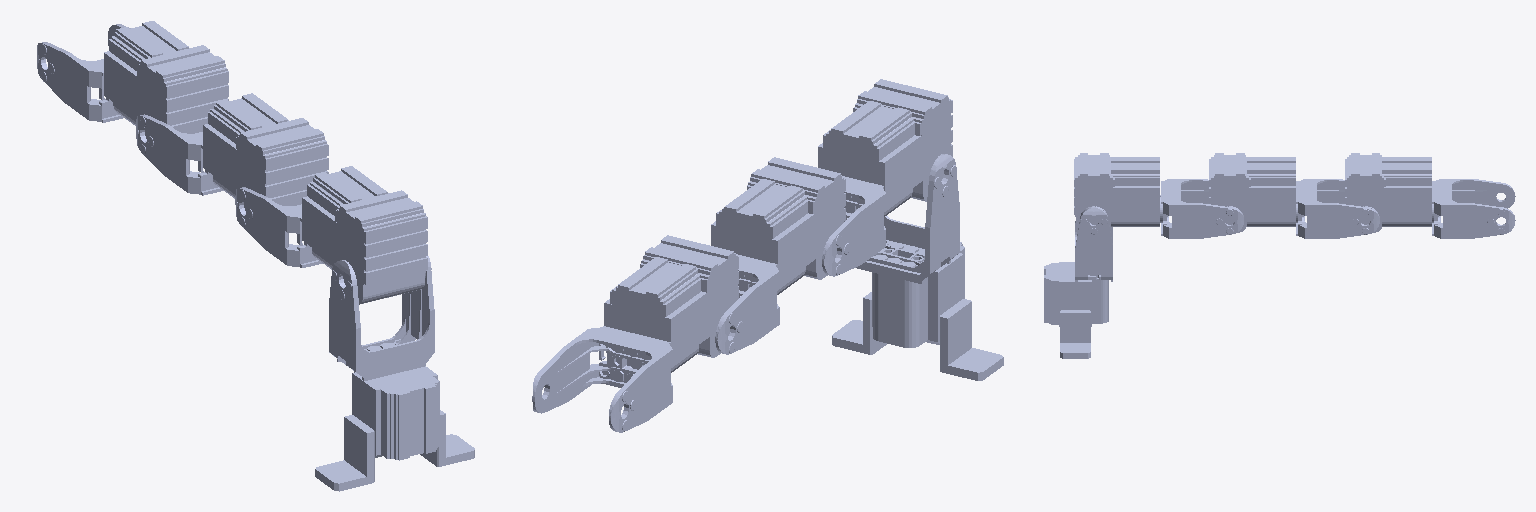
robot.urdf — dyxel_arm_description:
<?xml version="1.0" encoding="utf-8"?>
<!-- This URDF was automatically created by SolidWorks to URDF Exporter! Originally created by [author] ([email redacted]) 
     Commit Version: 1.6.0-4-g7f85cfe  Build Version: 1.6.7995.38578
     For more information, please see http://wiki.ros.org/sw_urdf_exporter -->
<robot
  name="dyxel_arm_description">
  <link
    name="base_link">
    <inertial>
      <origin
        xyz="-0.0266190280842503 0.00413459015203709 0.0862442348129528"
        rpy="0 0 0" />
      <mass
        value="0.0873487052171479" />
      <inertia
        ixx="2.19215296408733E-05"
        ixy="-1.74435847575182E-20"
        ixz="5.40673187513534E-23"
        iyy="1.65873170923579E-05"
        iyz="-6.95944016564115E-10"
        izz="1.48982425180829E-05" />
    </inertial>
    <visual>
      <origin
        xyz="0 0 0"
        rpy="0 0 0" />
      <geometry>
        <mesh
          filename="package://test_jsy/meshes/base_link.STL" />
      </geometry>
      <material
        name="">
        <color
          rgba="0.792156862745098 0.819607843137255 0.933333333333333 1" />
      </material>
    </visual>
    <collision>
      <origin
        xyz="0 0 0"
        rpy="0 0 0" />
      <geometry>
        <mesh
          filename="package://test_jsy/meshes/base_link.STL" />
      </geometry>
    </collision>
  </link>
  <link
    name="link_1">
    <inertial>
      <origin
        xyz="6.1153E-08 0.00056972 -0.022064"
        rpy="0 0 0" />
      <mass
        value="0.01362" />
      <inertia
        ixx="5.5011E-06"
        ixy="-2.5761E-12"
        ixz="2.8369E-11"
        iyy="9.5948E-06"
        iyz="-8.0254E-08"
        izz="6.1633E-06" />
    </inertial>
    <visual>
      <origin
        xyz="0 0 0"
        rpy="0 0 0" />
      <geometry>
        <mesh
          filename="package://test_jsy/meshes/link_1.STL" />
      </geometry>
      <material
        name="">
        <color
          rgba="0.79216 0.81961 0.93333 1" />
      </material>
    </visual>
    <collision>
      <origin
        xyz="0 0 0"
        rpy="0 0 0" />
      <geometry>
        <mesh
          filename="package://test_jsy/meshes/link_1.STL" />
      </geometry>
    </collision>
  </link>
  <joint
    name="joint_1"
    type="revolute">
    <origin
      xyz="-0.026618 -0.0725 0.026408"
      rpy="-3.1416 0 0" />
    <parent
      link="base_link" />
    <child
      link="link_1" />
    <axis
      xyz="0 0 1" />
    <limit 
      effort="100" 
      lower="-3.14" 
      upper="3.14" 
      velocity="0.5"/>
  </joint>
  <link
    name="link_2">
    <inertial>
      <origin
        xyz="0.0003596 -0.013511 0.018372"
        rpy="0 0 0" />
      <mass
        value="0.1333" />
      <inertia
        ixx="3.4849E-05"
        ixy="-6.0282E-23"
        ixz="-4.6427E-20"
        iyy="2.4143E-05"
        iyz="-6.9594E-10"
        izz="3.2451E-05" />
    </inertial>
    <visual>
      <origin
        xyz="0 0 0"
        rpy="0 0 0" />
      <geometry>
        <mesh
          filename="package://test_jsy/meshes/link_2.STL" />
      </geometry>
      <material
        name="">
        <color
          rgba="0.79216 0.81961 0.93333 1" />
      </material>
    </visual>
    <collision>
      <origin
        xyz="0 0 0"
        rpy="0 0 0" />
      <geometry>
        <mesh
          filename="package://test_jsy/meshes/link_2.STL" />
      </geometry>
    </collision>
  </link>
  <joint
    name="joint_2"
    type="revolute">
    <origin
      xyz="0 0 -0.0537"
      rpy="1.5708 0 0" />
    <parent
      link="link_1" />
    <child
      link="link_2" />
    <axis
      xyz="1 0 0" />
    <limit 
      effort="100" 
      lower="-3.14" 
      upper="3.14" 
      velocity="0.5"/>
  </joint>
  <link
    name="link_3">
    <inertial>
      <origin
        xyz="6.1153E-08 0.00056972 -0.022064"
        rpy="0 0 0" />
      <mass
        value="0.01362" />
      <inertia
        ixx="5.5011E-06"
        ixy="-2.5761E-12"
        ixz="2.8369E-11"
        iyy="9.5948E-06"
        iyz="-8.0254E-08"
        izz="6.1633E-06" />
    </inertial>
    <visual>
      <origin
        xyz="0 0 0"
        rpy="0 0 0" />
      <geometry>
        <mesh
          filename="package://test_jsy/meshes/link_3.STL" />
      </geometry>
      <material
        name="">
        <color
          rgba="0.79216 0.81961 0.93333 1" />
      </material>
    </visual>
    <collision>
      <origin
        xyz="0 0 0"
        rpy="0 0 0" />
      <geometry>
        <mesh
          filename="package://test_jsy/meshes/link_3.STL" />
      </geometry>
    </collision>
  </link>
  <joint
    name="joint_3"
    type="revolute">
    <origin
      xyz="0 0 0.0513"
      rpy="3.1416 0 0" />
    <parent
      link="link_2" />
    <child
      link="link_3" />
    <axis
      xyz="0 0 1" />
    <limit 
      effort="100" 
      lower="-3.14" 
      upper="3.14" 
      velocity="0.5"/>
  </joint>
  <link
    name="link_4">
    <inertial>
      <origin
        xyz="0.0003596 -0.013511 0.018372"
        rpy="0 0 0" />
      <mass
        value="0.1333" />
      <inertia
        ixx="3.4849E-05"
        ixy="8.2688E-22"
        ixz="-4.6791E-20"
        iyy="2.4143E-05"
        iyz="-6.9594E-10"
        izz="3.2451E-05" />
    </inertial>
    <visual>
      <origin
        xyz="0 0 0"
        rpy="0 0 0" />
      <geometry>
        <mesh
          filename="package://test_jsy/meshes/link_4.STL" />
      </geometry>
      <material
        name="">
        <color
          rgba="0.79216 0.81961 0.93333 1" />
      </material>
    </visual>
    <collision>
      <origin
        xyz="0 0 0"
        rpy="0 0 0" />
      <geometry>
        <mesh
          filename="package://test_jsy/meshes/link_4.STL" />
      </geometry>
    </collision>
  </link>
  <joint
    name="joint_4"
    type="revolute">
    <origin
      xyz="0 0 -0.0537"
      rpy="-3.1416 0 0" />
    <parent
      link="link_3" />
    <child
      link="link_4" />
    <axis
      xyz="1 0 0" />
    <limit 
      effort="100" 
      lower="-3.14" 
      upper="3.14" 
      velocity="0.5"/>
  </joint>
  <link
    name="link_5">
    <inertial>
      <origin
        xyz="6.1153E-08 0.00056972 -0.022064"
        rpy="0 0 0" />
      <mass
        value="0.01362" />
      <inertia
        ixx="5.5011E-06"
        ixy="-2.5761E-12"
        ixz="2.8369E-11"
        iyy="9.5948E-06"
        iyz="-8.0254E-08"
        izz="6.1633E-06" />
    </inertial>
    <visual>
      <origin
        xyz="0 0 0"
        rpy="0 0 0" />
      <geometry>
        <mesh
          filename="package://test_jsy/meshes/link_5.STL" />
      </geometry>
      <material
        name="">
        <color
          rgba="0.79216 0.81961 0.93333 1" />
      </material>
    </visual>
    <collision>
      <origin
        xyz="0 0 0"
        rpy="0 0 0" />
      <geometry>
        <mesh
          filename="package://test_jsy/meshes/link_5.STL" />
      </geometry>
    </collision>
  </link>
  <joint
    name="joint_5"
    type="revolute">
    <origin
      xyz="0 0 0.0513"
      rpy="3.1416 0 0" />
    <parent
      link="link_4" />
    <child
      link="link_5" />
    <axis
      xyz="0 0 1" />
    <limit 
      effort="100" 
      lower="-3.14" 
      upper="3.14" 
      velocity="0.5"/>
  </joint>
  <link
    name="link_6">
    <inertial>
      <origin
        xyz="0.0003596 -0.013511 0.018372"
        rpy="0 0 0" />
      <mass
        value="0.1333" />
      <inertia
        ixx="3.4849E-05"
        ixy="3.3553E-22"
        ixz="-4.7515E-20"
        iyy="2.4143E-05"
        iyz="-6.9594E-10"
        izz="3.2451E-05" />
    </inertial>
    <visual>
      <origin
        xyz="0 0 0"
        rpy="0 0 0" />
      <geometry>
        <mesh
          filename="package://test_jsy/meshes/link_6.STL" />
      </geometry>
      <material
        name="">
        <color
          rgba="0.79216 0.81961 0.93333 1" />
      </material>
    </visual>
    <collision>
      <origin
        xyz="0 0 0"
        rpy="0 0 0" />
      <geometry>
        <mesh
          filename="package://test_jsy/meshes/link_6.STL" />
      </geometry>
    </collision>
  </link>
  <joint
    name="joint_6"
    type="revolute">
    <origin
      xyz="0 0 -0.0537"
      rpy="-3.1416 0 0" />
    <parent
      link="link_5" />
    <child
      link="link_6" />
    <axis
      xyz="1 0 0" />
    <limit 
      effort="100" 
      lower="-3.14" 
      upper="3.14" 
      velocity="0.5"/>
  </joint>
  <link
    name="link_7">
    <inertial>
      <origin
        xyz="6.1153E-08 0.00056972 -0.022064"
        rpy="0 0 0" />
      <mass
        value="0.01362" />
      <inertia
        ixx="5.5011E-06"
        ixy="-2.5761E-12"
        ixz="2.8369E-11"
        iyy="9.5948E-06"
        iyz="-8.0254E-08"
        izz="6.1633E-06" />
    </inertial>
    <visual>
      <origin
        xyz="0 0 0"
        rpy="0 0 0" />
      <geometry>
        <mesh
          filename="package://test_jsy/meshes/link_7.STL" />
      </geometry>
      <material
        name="">
        <color
          rgba="0.79216 0.81961 0.93333 1" />
      </material>
    </visual>
    <collision>
      <origin
        xyz="0 0 0"
        rpy="0 0 0" />
      <geometry>
        <mesh
          filename="package://test_jsy/meshes/link_7.STL" />
      </geometry>
    </collision>
  </link>
  <joint
    name="joint_7"
    type="revolute">
    <origin
      xyz="0 0 0.0513"
      rpy="3.1416 0 0" />
    <parent
      link="link_6" />
    <child
      link="link_7" />
    <axis
      xyz="0 0 1" />
    <limit 
      effort="100" 
      lower="-3.14" 
      upper="3.14" 
      velocity="0.5"/>
  </joint>
</robot>

--- Facts derived from the render (not from the file) ---
Views: 3 orthographic renders of the robot side by side, from view 1: azimuth 30°, elevation 25°; view 2: azimuth 150°, elevation 25°; view 3: azimuth 270°, elevation 25°.
Robot: dyxel_arm_description — 8 links, 7 joints (7 revolute); root link base_link; default pose: every joint at zero.
Visible links, largest first — view 1: link_2, base_link, link_4, link_6, link_1, link_7, link_5, link_3; view 2: link_6, link_2, link_4, base_link, link_7, link_1, link_5, link_3; view 3: link_2, link_6, link_4, base_link, link_7, link_5, link_3, link_1.
Boxes of the visible links, x1=… form: link_2: x1=302, y1=166, x2=427, y2=304; base_link: x1=315, y1=366, x2=474, y2=491; link_4: x1=203, y1=93, x2=328, y2=212; link_6: x1=104, y1=21, x2=228, y2=138; link_1: x1=329, y1=256, x2=434, y2=380; link_7: x1=37, y1=24, x2=130, y2=122; link_5: x1=136, y1=114, x2=222, y2=195; link_3: x1=235, y1=187, x2=322, y2=267; link_6: x1=604, y1=235, x2=738, y2=372; link_2: x1=818, y1=79, x2=952, y2=216; link_4: x1=711, y1=157, x2=845, y2=294; base_link: x1=832, y1=242, x2=1003, y2=380; link_7: x1=532, y1=326, x2=672, y2=432; link_1: x1=856, y1=154, x2=959, y2=283; link_5: x1=715, y1=254, x2=779, y2=354; link_3: x1=822, y1=176, x2=885, y2=276; link_2: x1=1074, y1=153, x2=1162, y2=227; link_6: x1=1345, y1=153, x2=1433, y2=232; link_4: x1=1209, y1=153, x2=1297, y2=232; base_link: x1=1044, y1=262, x2=1108, y2=358; link_7: x1=1432, y1=179, x2=1515, y2=238; link_5: x1=1296, y1=179, x2=1379, y2=238; link_3: x1=1161, y1=179, x2=1243, y2=238; link_1: x1=1075, y1=207, x2=1112, y2=281.
Size in the robot's own frame: 0.086 by 0.3645 by 0.1465 metres.
Meshes: 8 distinct files referenced, 8 mesh visuals loaded (8 binary STL).
